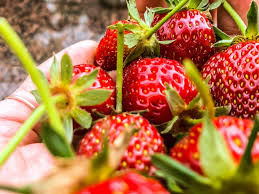ripe: (172, 102, 259, 189), (38, 58, 122, 130), (116, 56, 207, 122), (80, 112, 169, 178), (140, 6, 219, 62), (207, 28, 257, 115), (90, 20, 156, 74)
